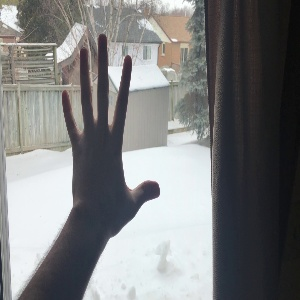hand: (62, 34, 160, 224)
